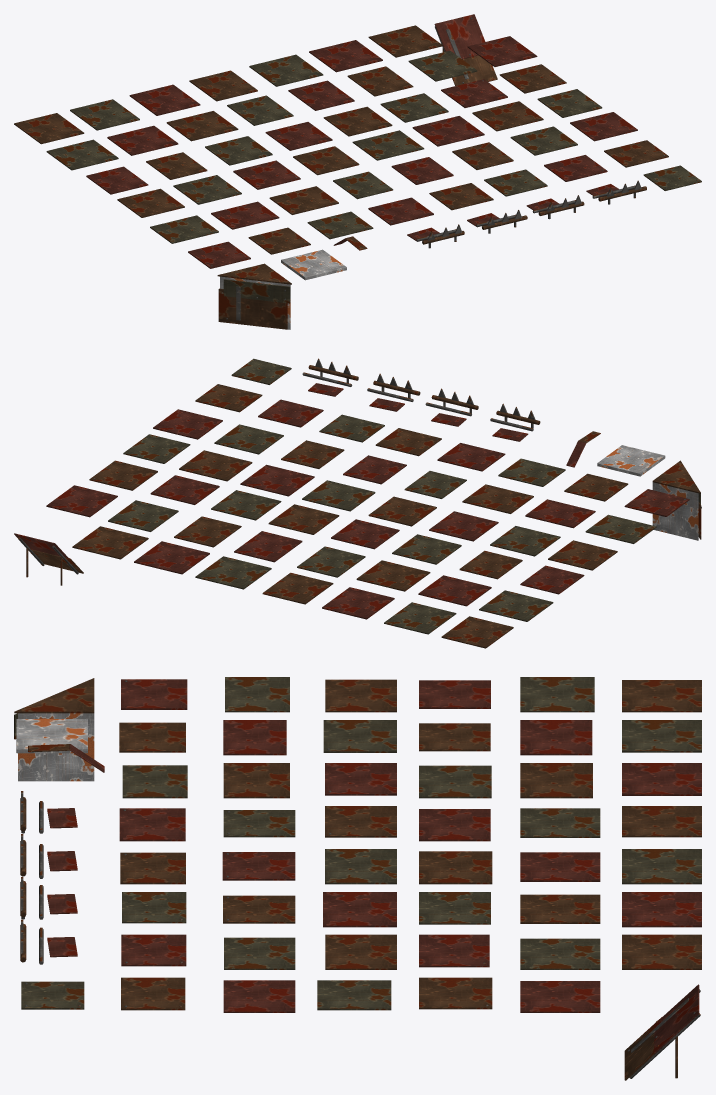
Rendered from R4H_HullKit.glb.
3 views of the same model, one above another, from view 1: azimuth 30°, elevation 25°; view 2: azimuth 150°, elevation 25°; view 3: azimuth 270°, elevation 25° (orthographic). The views are drawn at different scales.
Visible parts, largest first — view 1: cheek, ramp, plate_15_0, plate_15_2, plate_15_1, plate_14_1, plate_07_1, plate_11_0, plate_14_0, plate_13_2, plate_11_2, plate_07_0 (+43 smaller); view 2: cheek, plate_15_0, plate_15_2, plate_15_1, plate_07_1, plate_11_0, plate_14_1, plate_13_2, plate_14_0, plate_11_2, plate_07_0, plate_07_2 (+43 smaller); view 3: cheek, plate_15_0, plate_15_1, plate_15_2, ramp, plate_11_0, plate_07_1, plate_13_2, plate_14_0, plate_14_1, plate_11_2, plate_11_1 (+43 smaller).
Boxes of the visible parts, <box> form: cheek: <box>217,263,291,329</box>; ramp: <box>434,14,497,85</box>; plate_15_0: <box>249,54,323,86</box>; plate_15_2: <box>368,25,442,57</box>; plate_15_1: <box>309,40,382,72</box>; plate_14_1: <box>129,84,200,115</box>; plate_07_1: <box>412,116,484,146</box>; plate_11_0: <box>46,139,118,170</box>; plate_14_0: <box>70,99,139,130</box>; plate_13_2: <box>14,113,84,144</box>; plate_11_2: <box>166,111,238,141</box>; plate_07_0: <box>352,130,424,160</box>; cheek: <box>652,460,701,540</box>; plate_15_0: <box>195,556,271,589</box>; plate_15_2: <box>72,526,148,559</box>; plate_15_1: <box>134,541,209,574</box>; plate_07_1: <box>240,464,314,496</box>; plate_11_0: <box>479,590,553,621</box>; plate_14_1: <box>322,587,394,619</box>; plate_13_2: <box>441,616,513,648</box>; plate_14_0: <box>384,602,456,634</box>; plate_11_2: <box>356,560,430,591</box>; plate_07_0: <box>302,480,375,511</box>; plate_07_2: <box>179,450,252,481</box>; cheek: <box>14,678,94,781</box>; plate_15_0: <box>622,849,701,884</box>; plate_15_1: <box>622,892,701,927</box>; plate_15_2: <box>622,934,701,969</box>; ramp: <box>624,984,700,1080</box>; plate_11_0: <box>520,677,594,712</box>; plate_07_1: <box>323,892,396,927</box>; plate_13_2: <box>622,680,701,712</box>; plate_14_0: <box>622,720,701,752</box>; plate_14_1: <box>622,763,701,795</box>; plate_11_2: <box>520,763,592,798</box>; plate_11_1: <box>520,720,592,755</box>.
Bounding box in the file's own units: 5.45 × 0.7267 × 4.74.
Materials: 5 (5 with a texture image).
